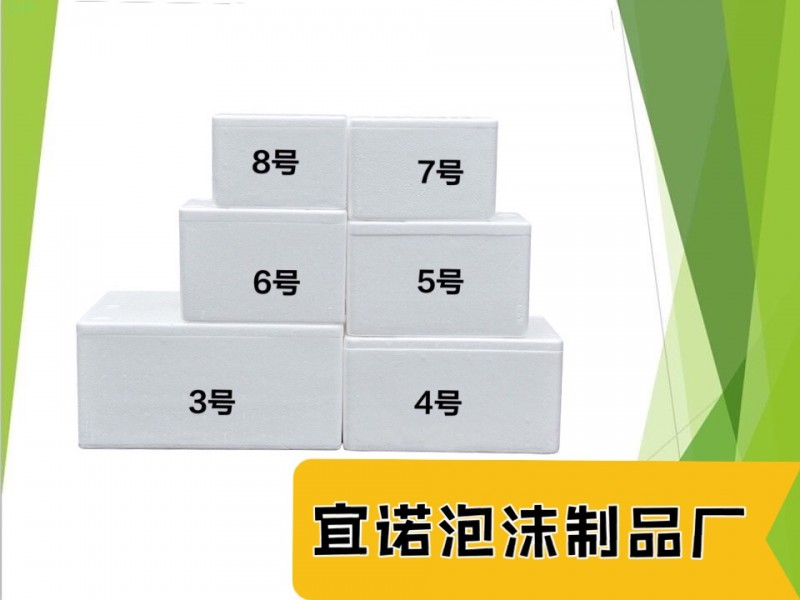Boxes: (77, 119, 562, 454)
